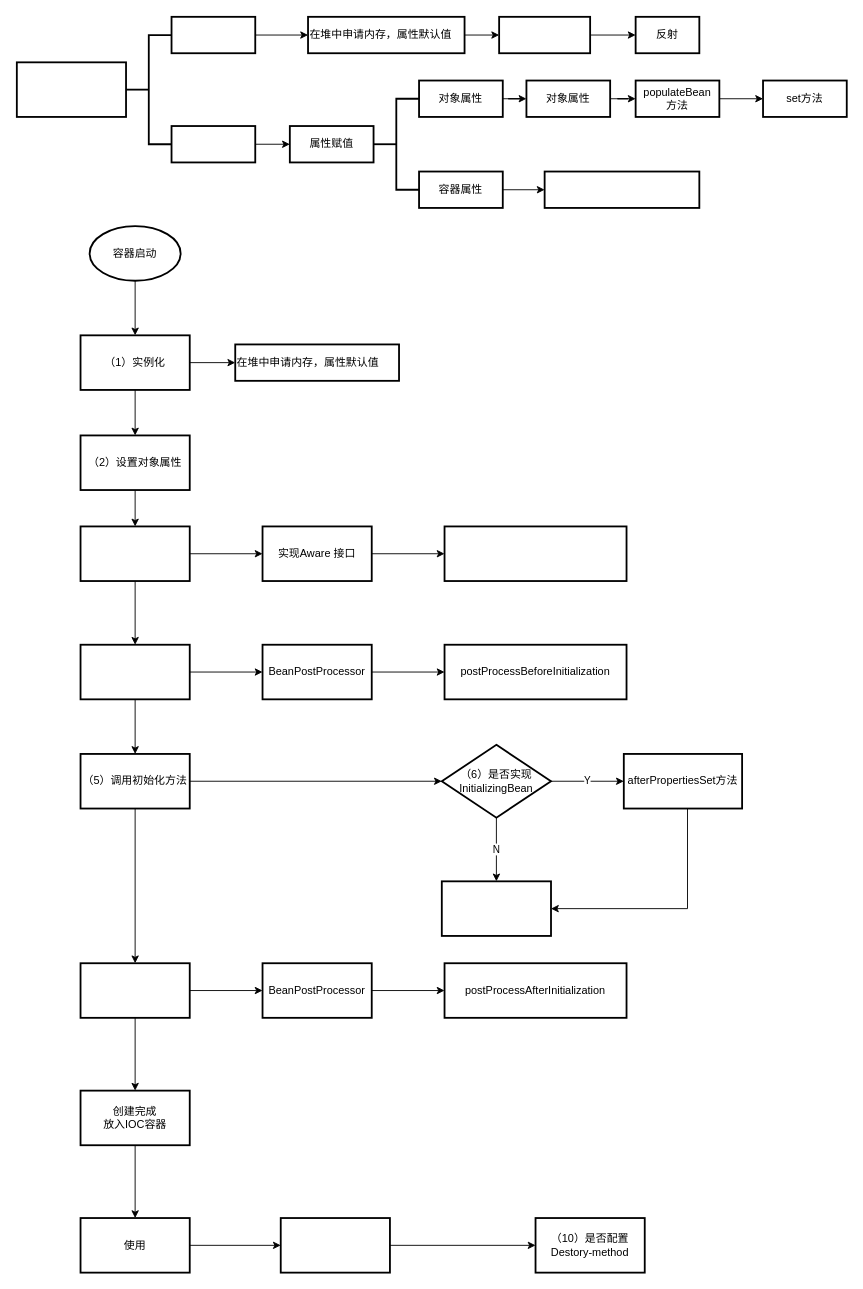
This 863x1289 diagram has some shape labels left out. Here are the shapes that lost their labels. From the top down, the centre of each, then its label:
pixel 213 34: 实例化
pixel 544 34: creatInstance
pixel 70 89: Bean创建
pixel 213 144: 初始化
pixel 621 189: 如：ApplicationContext
pixel 134 553: （3）设置容器属性
pixel 535 553: 使Bean能够获取容器的一些属性
pixel 134 671: （4）调用前置处理器
pixel 495 908: （7）init method
pixel 134 990: （8）调用后置处理器
pixel 334 1245: （9）是否实现DisposableBean
